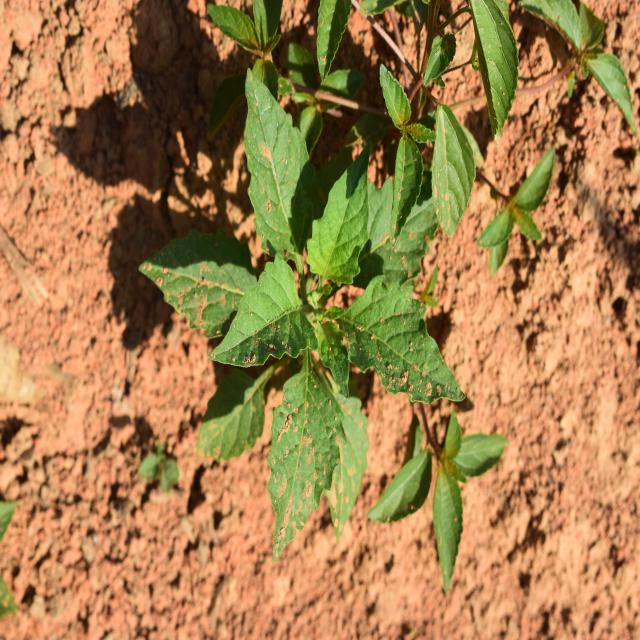Black_nightshade: (165, 142, 438, 516)
